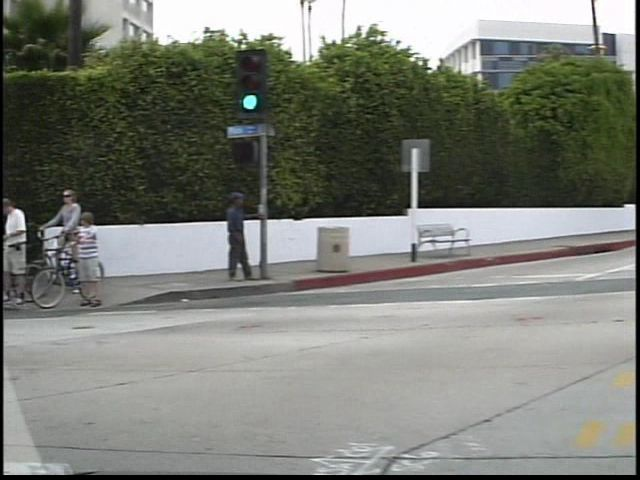person: (3, 179, 41, 311), (215, 186, 259, 291)
